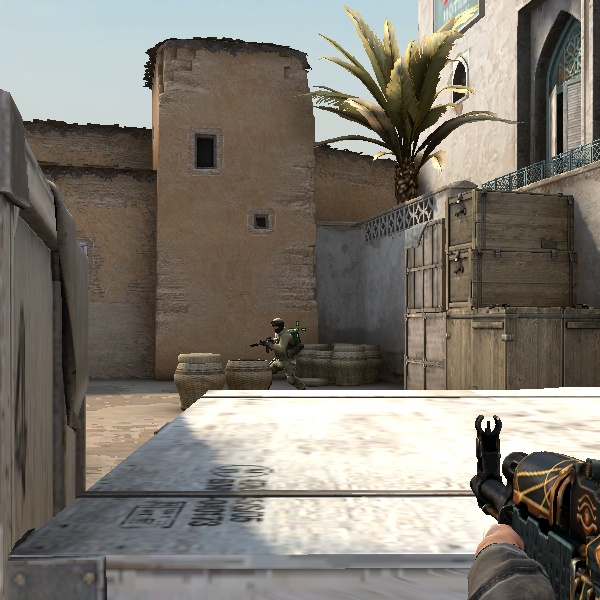ct_body: (263, 318, 306, 390)
ct_head: (272, 318, 284, 333)
